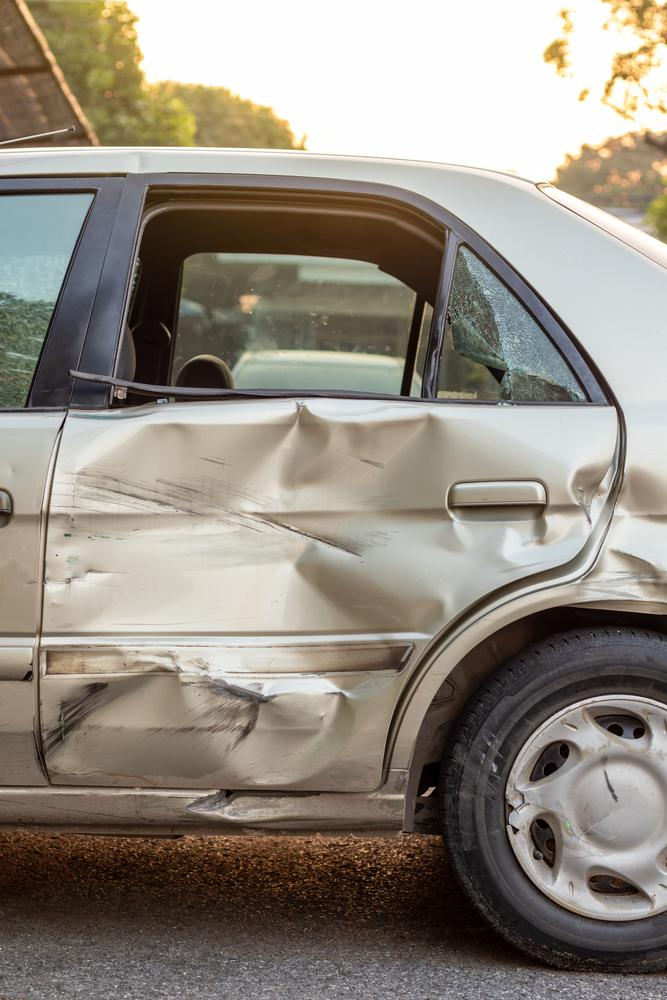dent: (44, 403, 616, 786), (573, 467, 667, 600), (193, 789, 309, 819)
glass shatter: (437, 244, 591, 401)
